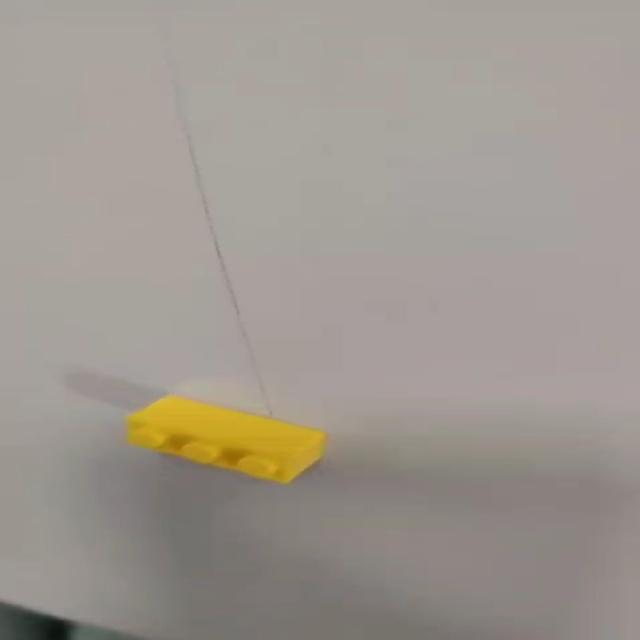C3x1x1: (116, 392, 341, 488)
